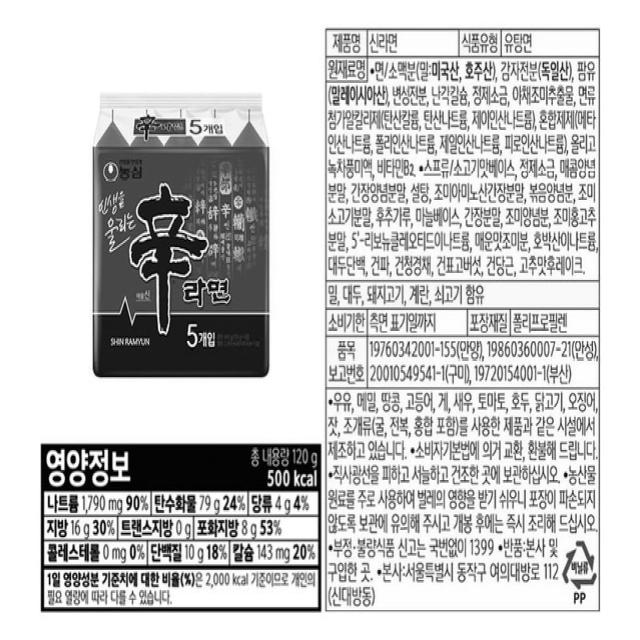Nutrition Label: (31, 425, 327, 622)
